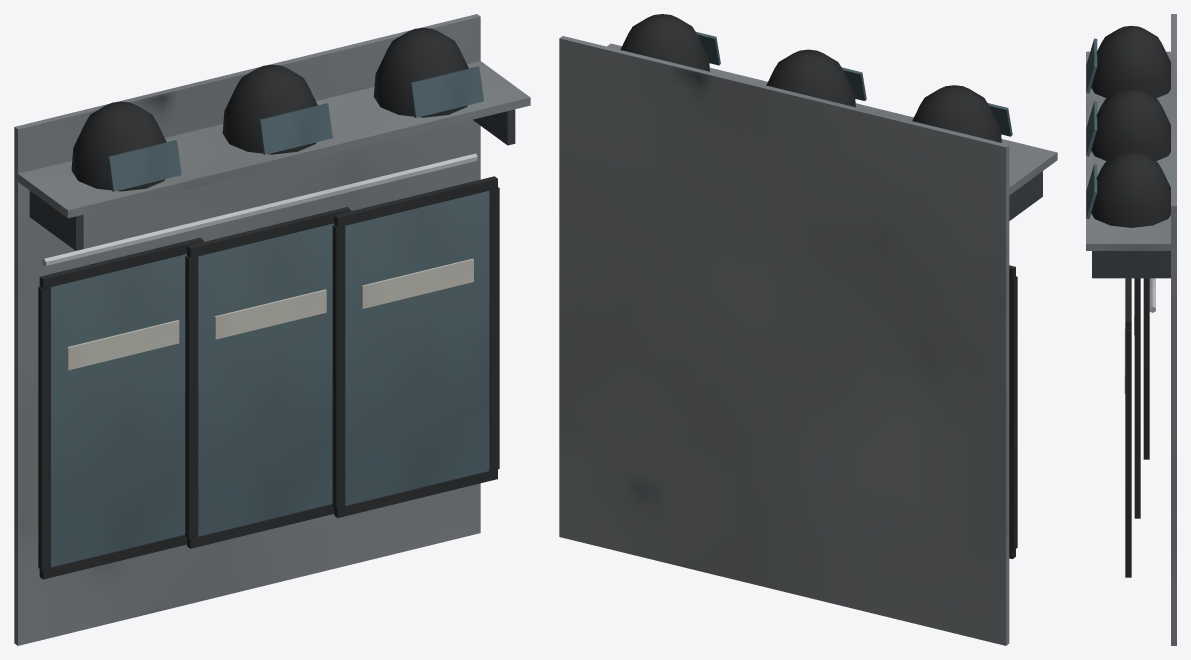
File: riot_rack.fbx
3 views of the same model, side by side, from view 1: azimuth 30°, elevation 25°; view 2: azimuth 150°, elevation 25°; view 3: azimuth 270°, elevation 25° (orthographic). The views are drawn at different scales.
Visible parts, largest first — view 1: riot_rack; view 2: riot_rack; view 3: riot_rack.
Boxes of the visible parts, box(x1,y1,x2,y2) form: riot_rack: box(14, 14, 530, 645); riot_rack: box(559, 14, 1057, 645); riot_rack: box(1086, 14, 1176, 645).
Bounding box in the file's own units: 1.5 × 1.67 × 0.3.
Materials: 1 (1 with a texture image).
